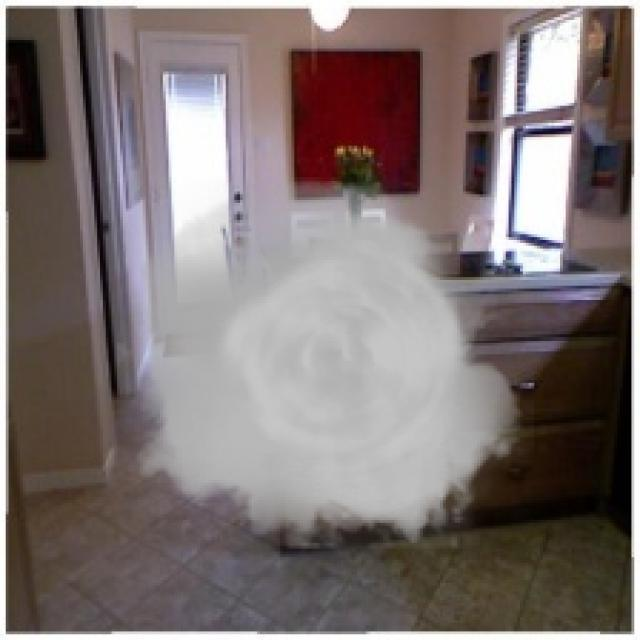Smoke: (117, 177, 534, 549)
